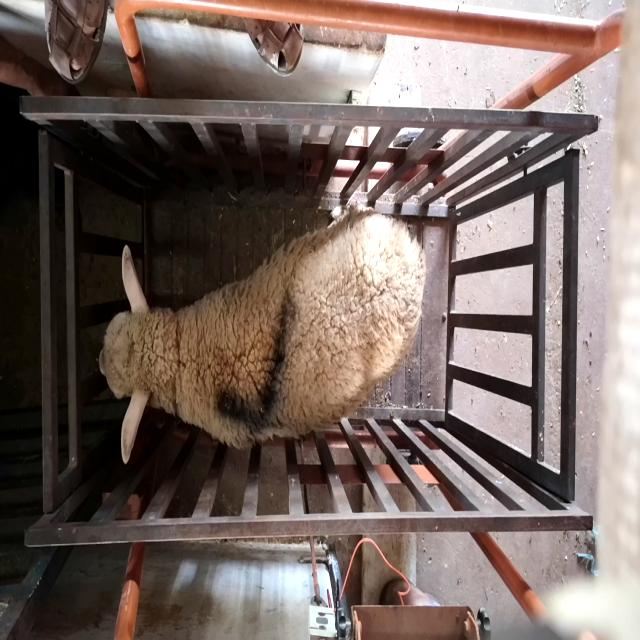sheep: (99, 203, 427, 464)
